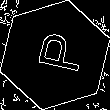P_W: (26, 31, 84, 79)
